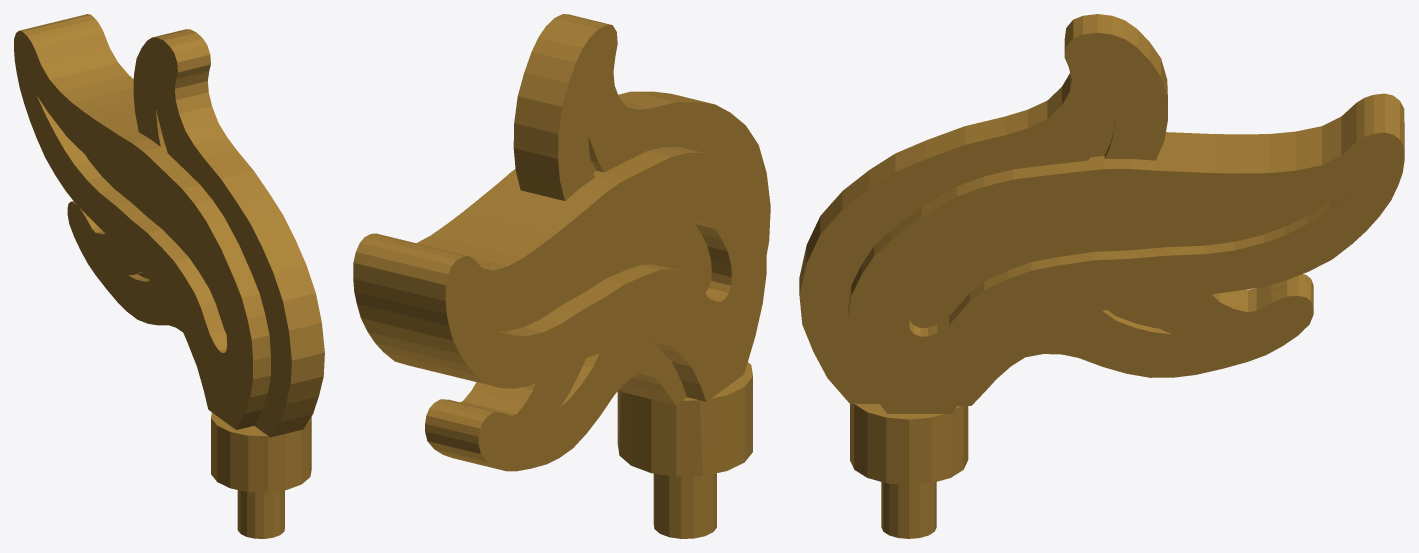
The model's file is FireCap.dae.
3 views of the same model, side by side, from view 1: azimuth 30°, elevation 25°; view 2: azimuth 150°, elevation 25°; view 3: azimuth 270°, elevation 25° (orthographic). The views are drawn at different scales.
Parts seen in each view (by area): view 1: Part.0; view 2: Part.0; view 3: Part.0.
Boxes of the visible parts, x1,y1,x2,y2 form: Part.0: (14,14,324,538); Part.0: (353,14,770,538); Part.0: (799,14,1404,538).
Size of the model in its own units: 3.2 by 15.03 by 16.36.
